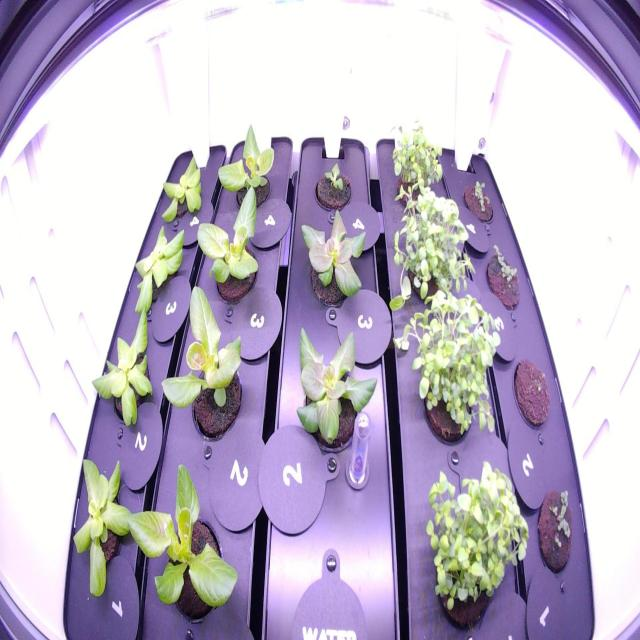germination: (529, 480, 577, 589), (481, 238, 524, 319), (456, 172, 498, 231)
pod: (508, 354, 554, 438)
young: (118, 447, 242, 628), (155, 280, 253, 448), (291, 310, 389, 478), (84, 299, 166, 445), (66, 448, 136, 610), (193, 178, 267, 323), (294, 203, 372, 327), (126, 216, 196, 336), (212, 116, 284, 224), (145, 141, 211, 244), (311, 154, 354, 220)
